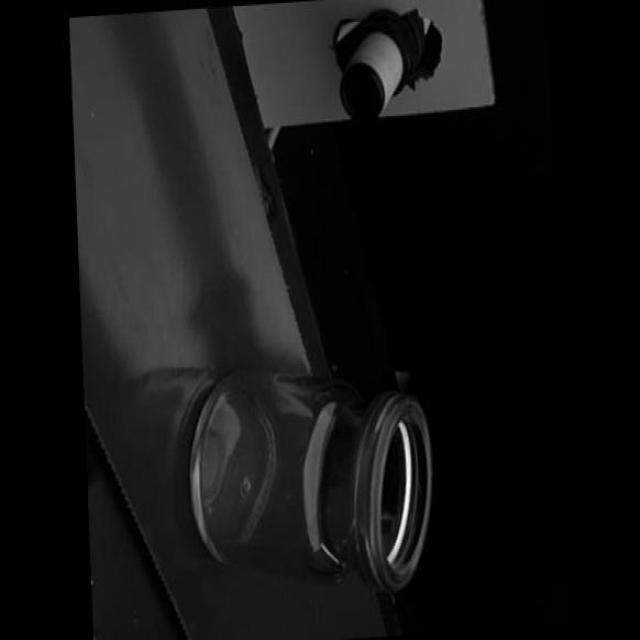defect: (317, 536, 342, 570)
glass: (180, 356, 438, 604)
